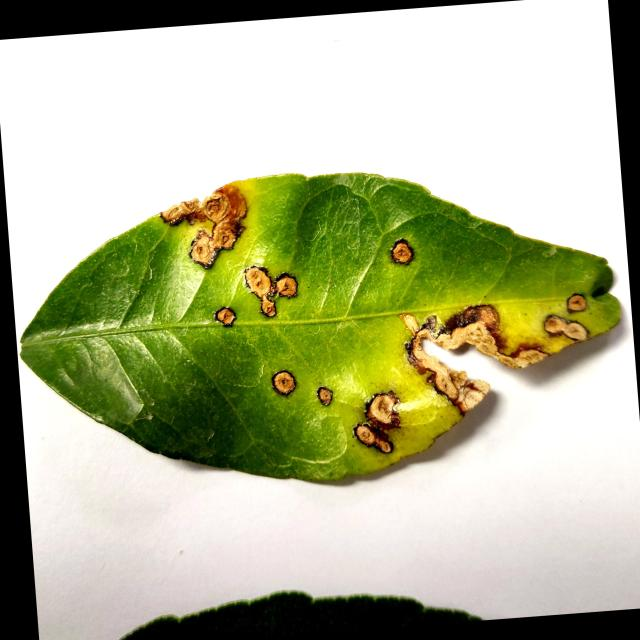antracnose: (21, 173, 619, 480), (21, 174, 619, 479), (399, 305, 547, 413), (354, 424, 392, 453), (544, 316, 588, 341), (367, 394, 397, 424), (245, 266, 271, 299), (272, 371, 295, 395), (392, 239, 413, 264), (276, 274, 297, 297), (215, 307, 236, 326), (567, 294, 586, 311), (317, 387, 332, 405), (262, 298, 276, 317)
